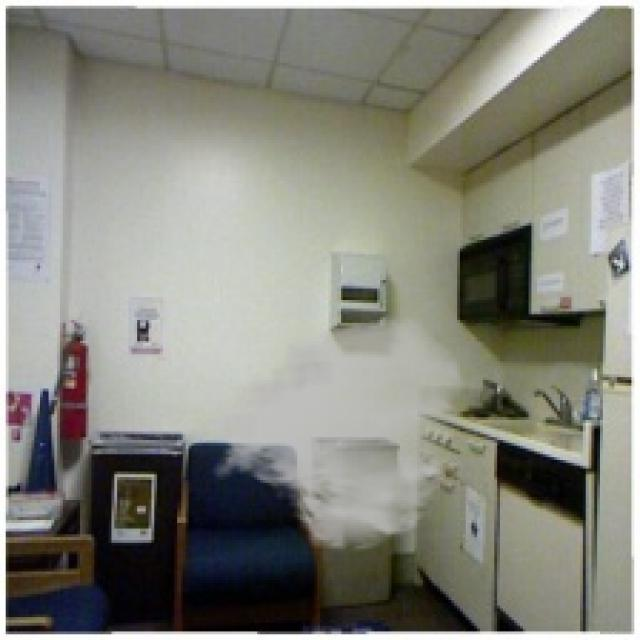smoke: (208, 314, 468, 554)
